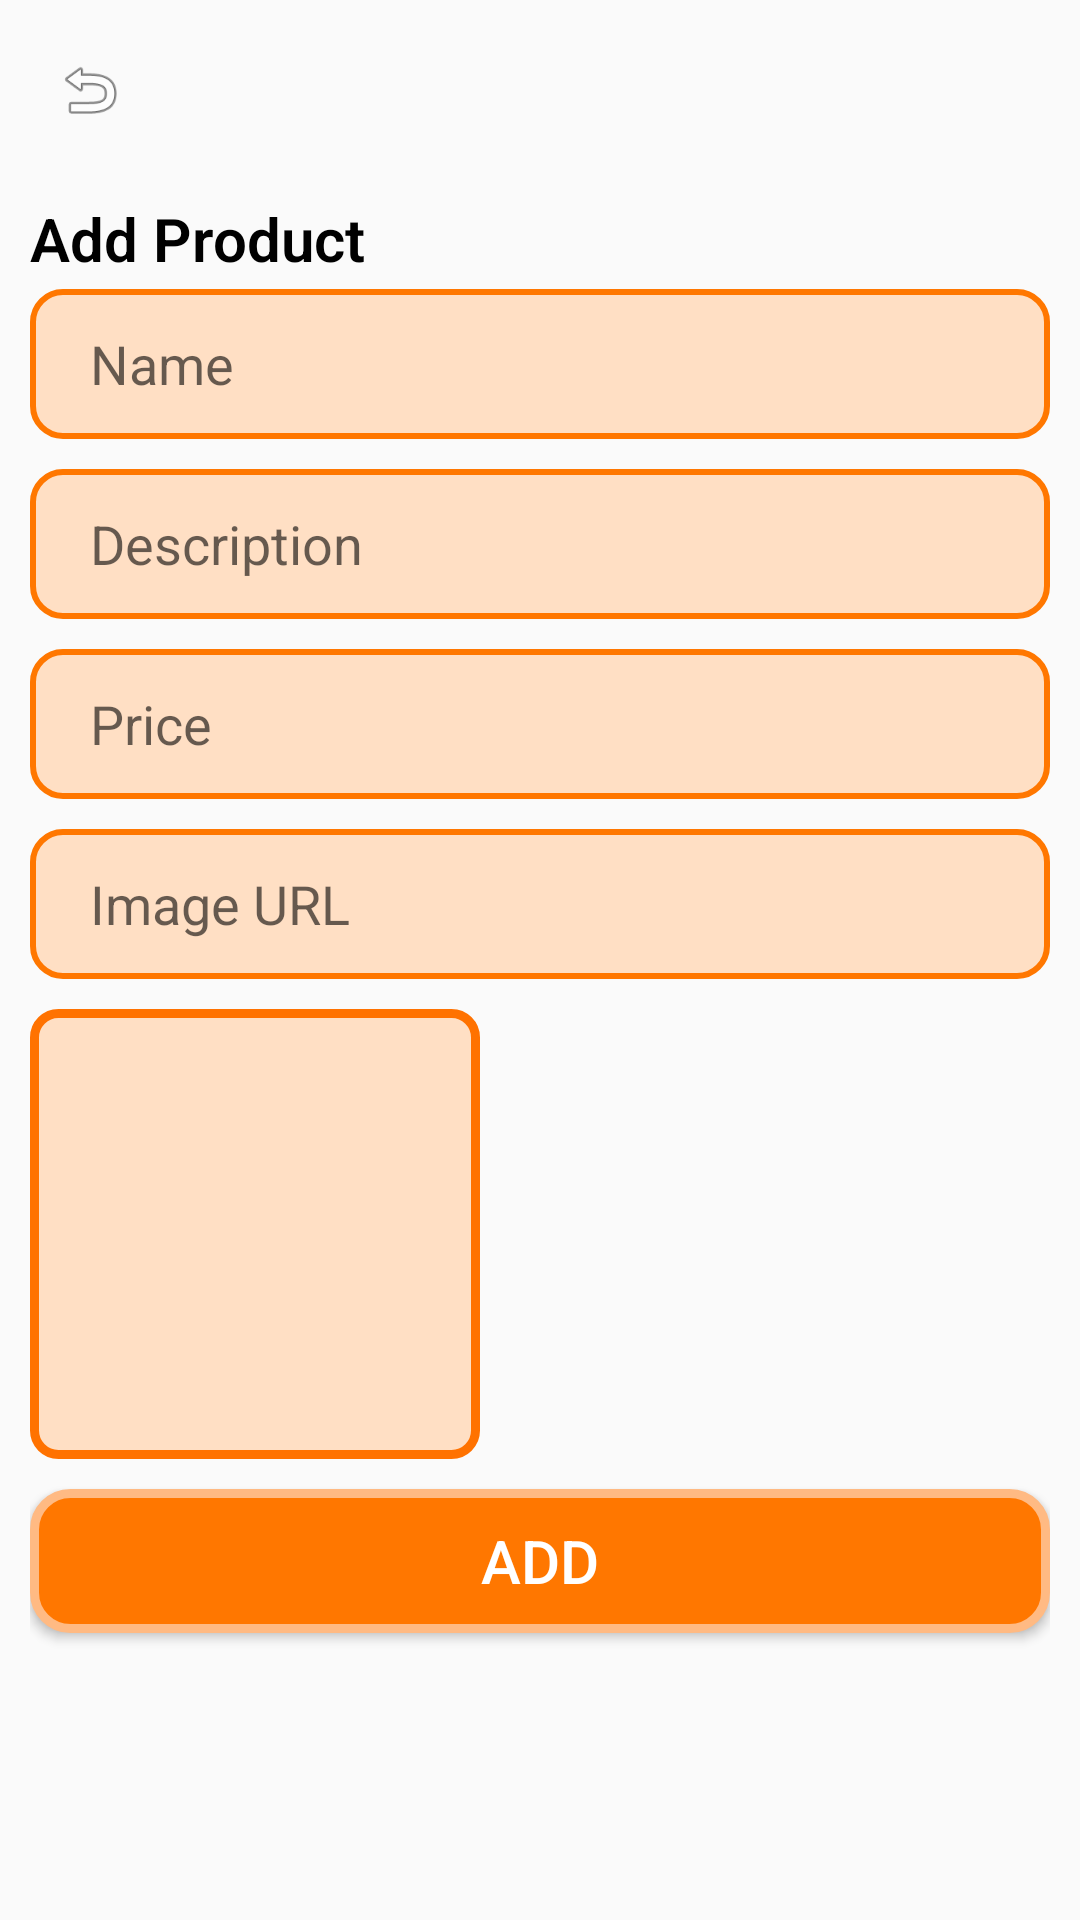

Point at icon controls on the screen. Image size 1080w x 1920h, points as [x,y].
Back: [91,90]
